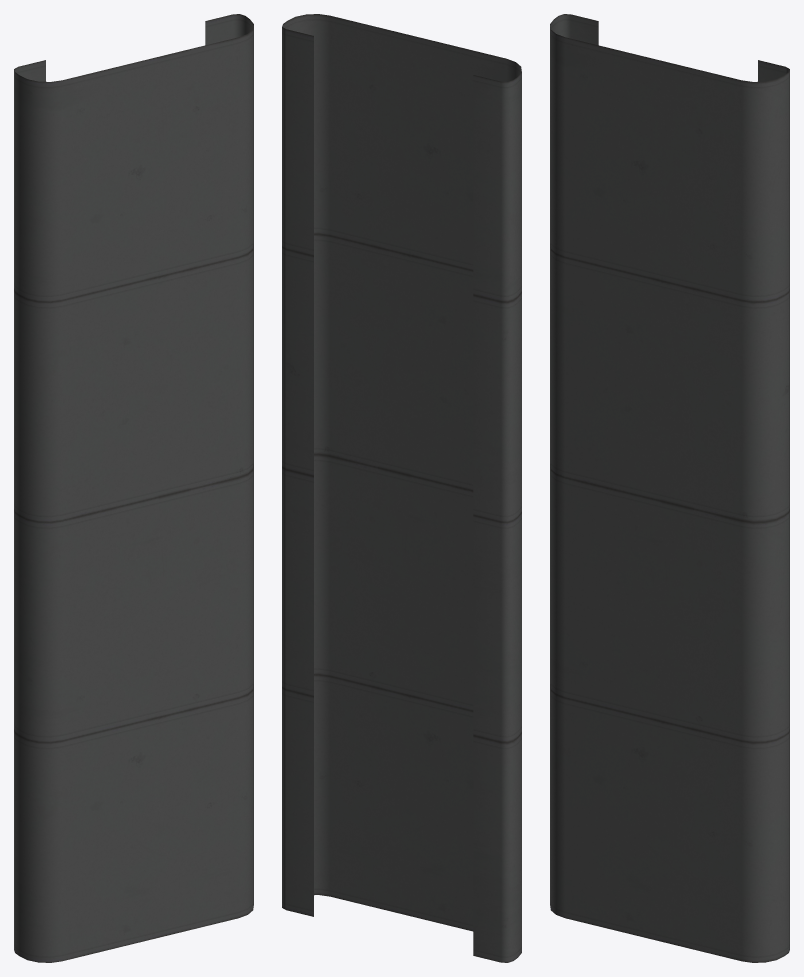
The model's file is Subway_wall_1_el1.fbx.
3 renders of one model, left to right at view 1: azimuth 30°, elevation 25°; view 2: azimuth 150°, elevation 25°; view 3: azimuth 330°, elevation 25°, orthographic.
Parts seen in each view (by area): view 1: pCube19; view 2: pCube19; view 3: pCube19.
Part boxes in pixels (x1,y1,x2,y2): pCube19: (14, 14, 253, 962); pCube19: (282, 14, 521, 962); pCube19: (550, 14, 789, 962).
Bounding box in the file's own units: 109 × 400 × 20.47.
